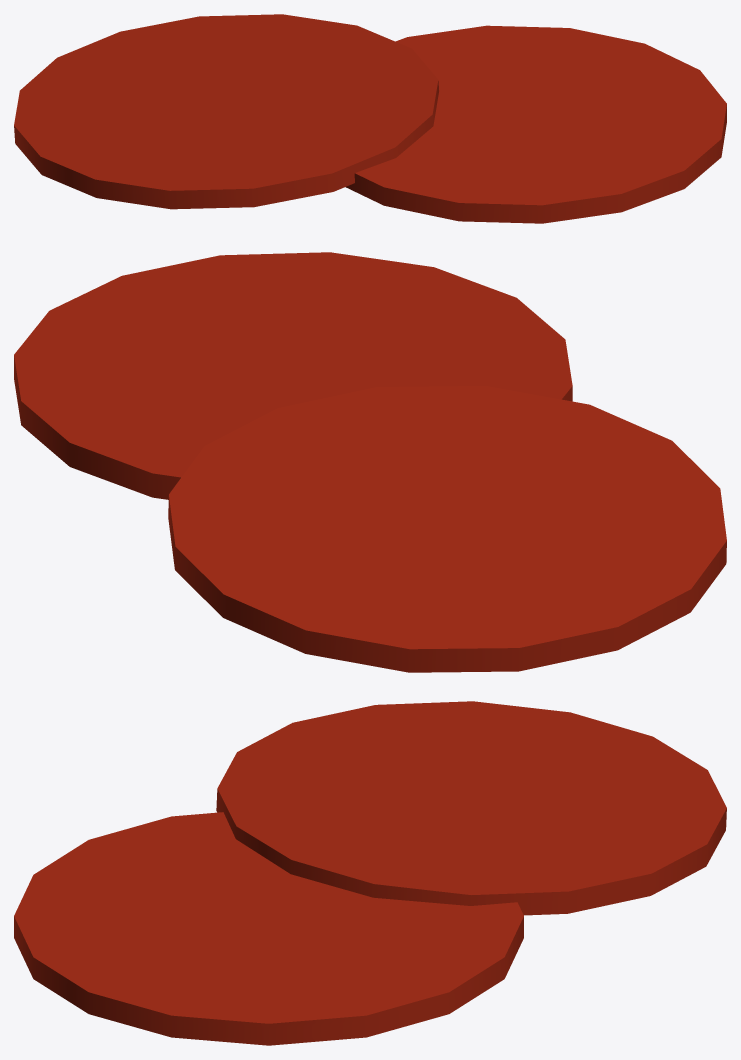
Rendered from plakjes_tomaat.glb.
The picture shows the model from 3 angles, top to bottom: view 1: azimuth 30°, elevation 25°; view 2: azimuth 150°, elevation 25°; view 3: azimuth 270°, elevation 25°; orthographic projection. The views are drawn at different scales.
Visible parts, largest first — view 1: Cylinder_Mat_3_0.001; view 2: Cylinder_Mat_3_0.001; view 3: Cylinder_Mat_3_0.001.
Part boxes in pixels (<box>): Cylinder_Mat_3_0.001: <box>14,14,726,223</box>; Cylinder_Mat_3_0.001: <box>14,252,726,672</box>; Cylinder_Mat_3_0.001: <box>14,701,726,1045</box>.
Bounding box in the file's own units: 1.06 × 0.0744 × 0.9617.
